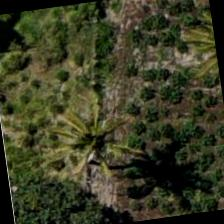Kelapa_Sawit: (42, 85, 144, 187)
